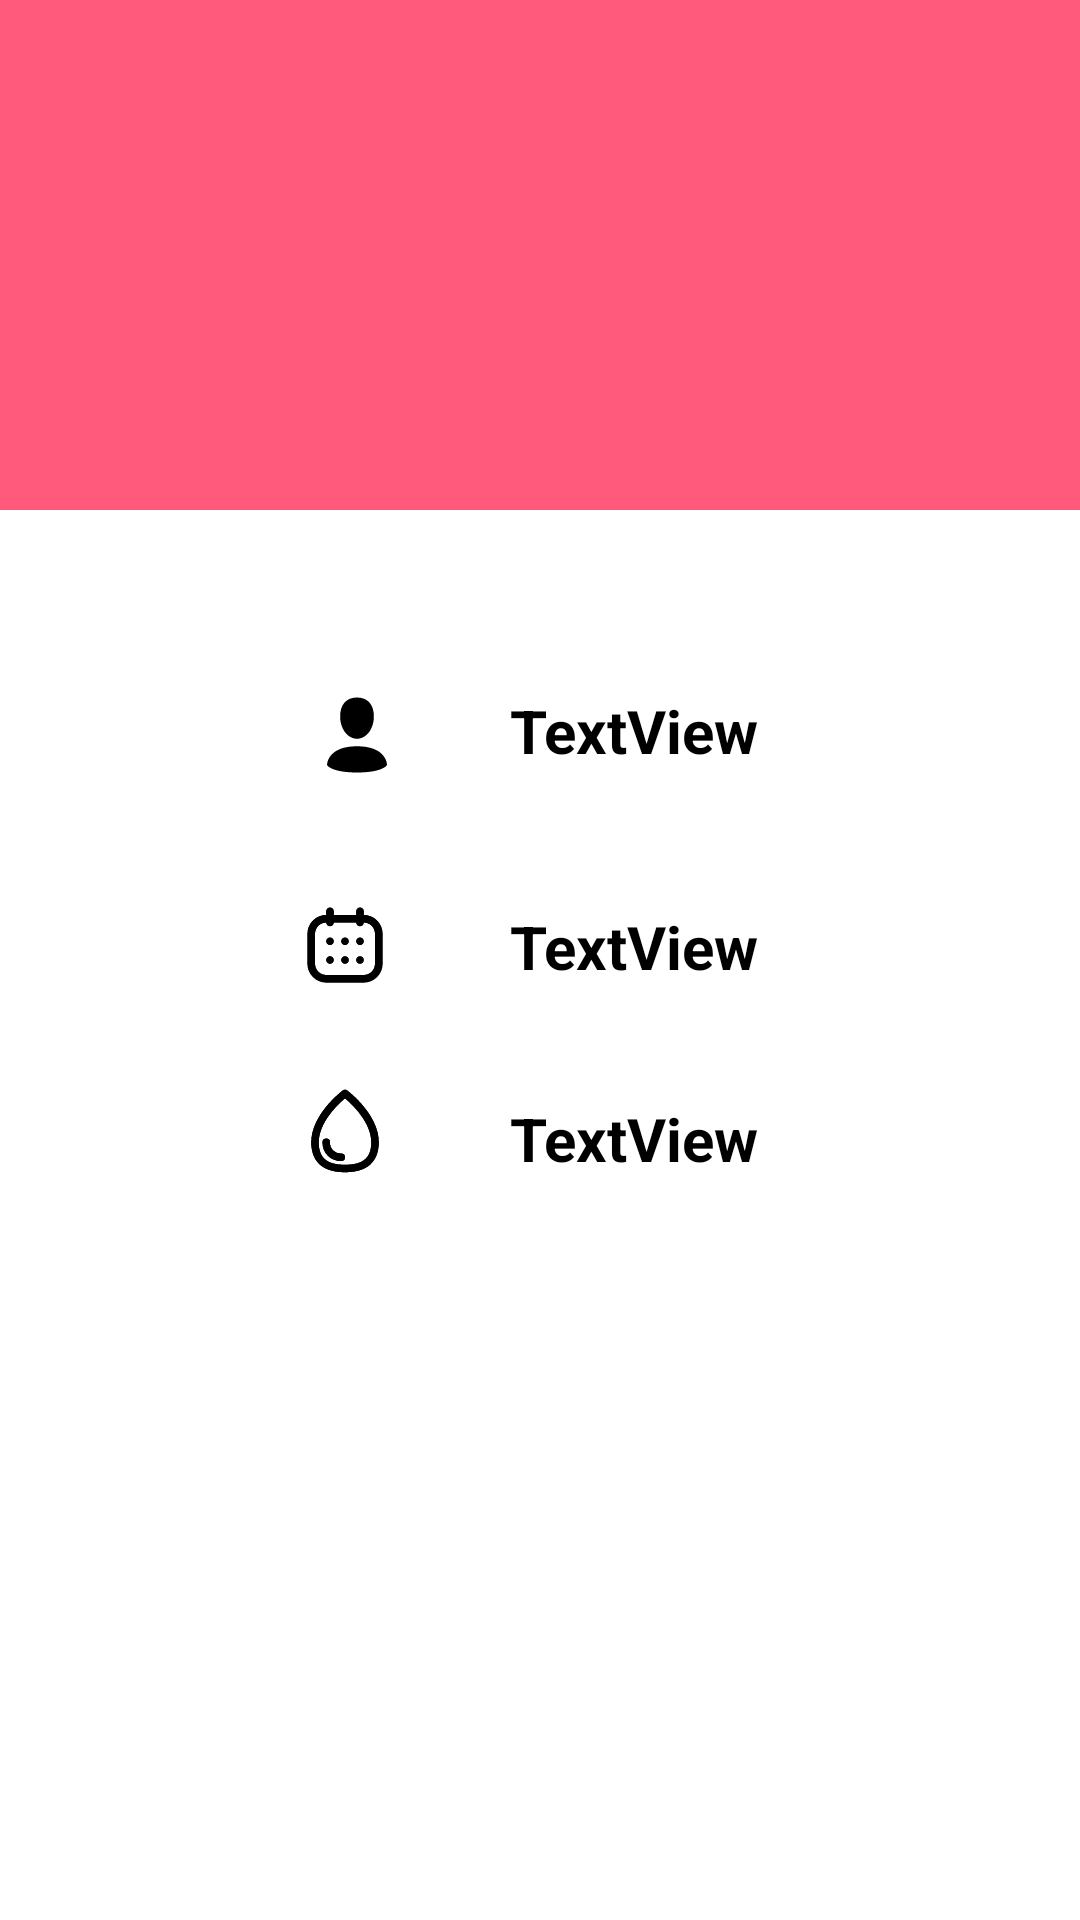

Locate icon controls on the screen. Image size 1080 × 1920, boxes as (x1, y1, x2, y2).
blood: (311, 1089, 379, 1173)
calendar: (307, 907, 383, 983)
profile: (327, 697, 387, 773)
